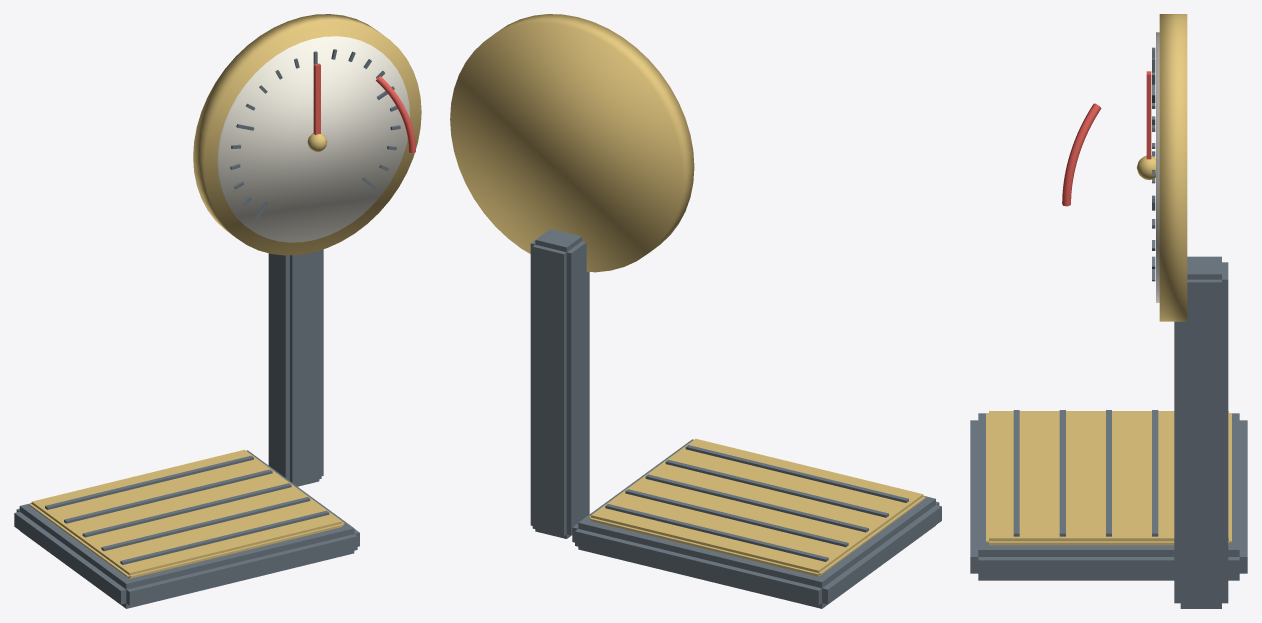
File: scale.glb
The picture shows the model from 3 angles, left to right: view 1: azimuth 30°, elevation 25°; view 2: azimuth 150°, elevation 25°; view 3: azimuth 270°, elevation 25°; orthographic projection. The views are drawn at different scales.
Visible parts, largest first — view 1: DialFace, Deck, Column, DialRim, Platform, Tread2, Tread0, Tread1, Tread4, Tread3, RedZone, ScaleNeedle; view 2: DialRim, Deck, Column, Platform, Tread2, Tread3, Tread1, Tread4, Tread0; view 3: Deck, Column, Platform, DialRim, DialFace, RedZone, Tread0, Tread1, Tread3, Tread2, ScaleNeedle.
Boxes of the visible parts, x1,y1,x2,y2 form: DialFace: (217,36,410,242); Deck: (29,449,344,578); Column: (268,249,323,486); DialRim: (193,14,421,255); Platform: (14,450,359,608); Tread2: (82,483,291,537); Tread0: (120,510,329,564); Tread1: (101,497,310,551); Tread4: (45,455,253,509); Tread3: (64,469,272,523); RedZone: (375,76,415,153); ScaleNeedle: (313,63,320,134); DialRim: (450,14,694,272); Deck: (588,438,925,576); Column: (530,229,589,538); Platform: (572,439,941,608); Tread2: (645,474,868,532); Tread3: (625,489,848,547); Tread1: (665,459,888,517); Tread4: (605,504,828,561); Tread0: (685,445,908,502); Deck: (986,411,1231,545); Column: (1174,256,1228,608); Platform: (970,413,1247,580); DialRim: (1159,14,1187,321); DialFace: (1156,32,1159,302); RedZone: (1062,103,1101,206); Tread0: (1013,410,1019,536); Tread1: (1059,410,1065,536); Tread3: (1152,410,1158,536); Tread2: (1106,410,1111,536); ScaleNeedle: (1146,71,1151,159).
Bounding box in the file's own units: 3.45 × 4.1 × 1.8.
